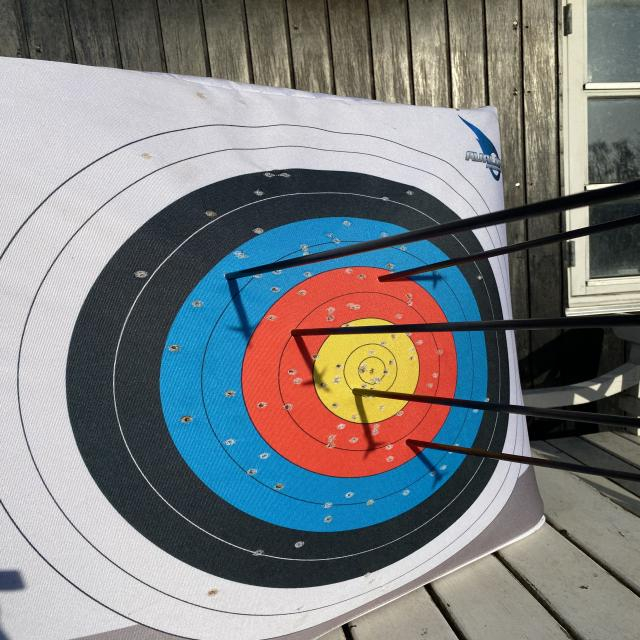Arrow_Blue: (208, 262, 260, 290), (370, 264, 408, 298)
Arrow_Red: (278, 312, 325, 354), (390, 424, 428, 458)
Arrow_Yellow: (345, 378, 387, 404)
